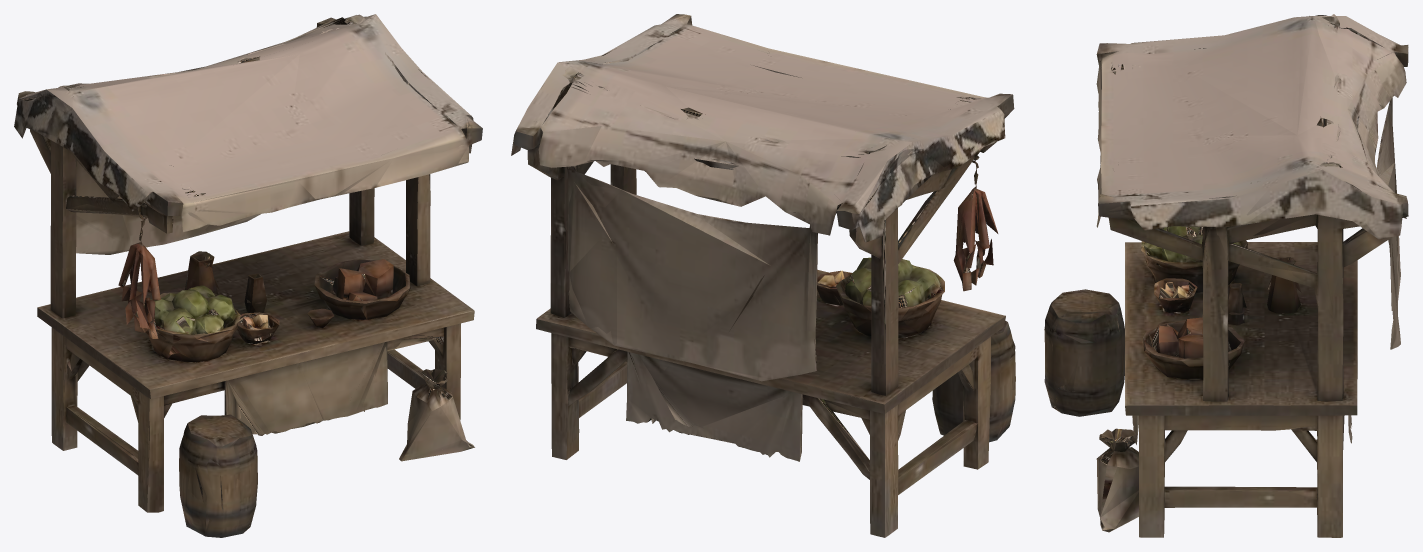
The model's file is mv_market_stall.glb.
The picture shows the model from 3 angles, left to right: view 1: azimuth 30°, elevation 25°; view 2: azimuth 150°, elevation 25°; view 3: azimuth 270°, elevation 25°; orthographic projection. The views are drawn at different scales.
Visible parts, largest first — view 1: mesh_lod, turn; view 2: turn, mesh_lod; view 3: turn, mesh_lod.
Part boxes in pixels (x1,y1,x2,y2): mesh_lod: (14,16,482,535); turn: (17,14,482,537); turn: (511,14,1015,537); mesh_lod: (513,16,1015,523); turn: (1044,14,1408,537); mesh_lod: (1044,16,1408,536).
Size of the model in its own units: 2.89 by 2.9 by 2.58.
Materials: 1 (1 with a texture image).
